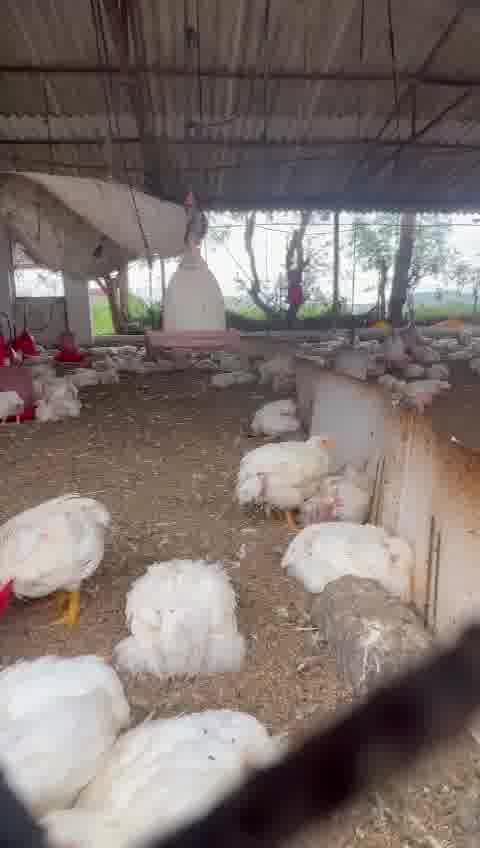AbNormal: (120, 552, 252, 681), (291, 524, 410, 593), (251, 398, 299, 434), (34, 398, 72, 422)
Normal: (4, 490, 113, 632), (237, 432, 339, 531)
